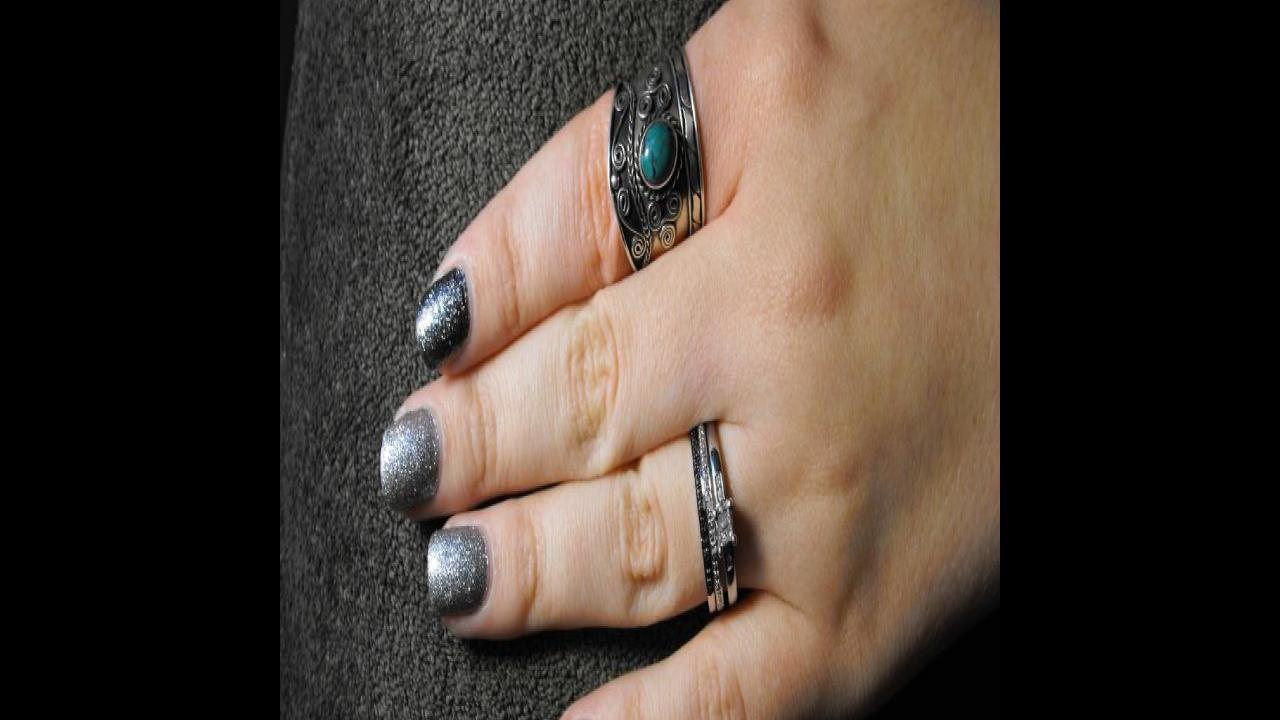ring: (608, 42, 704, 270), (688, 419, 743, 617)
